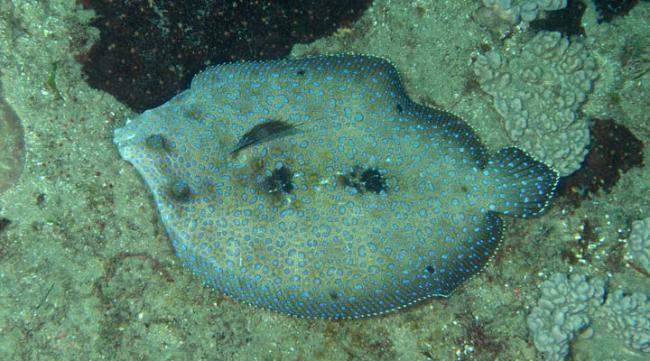fish: (114, 55, 562, 322)
